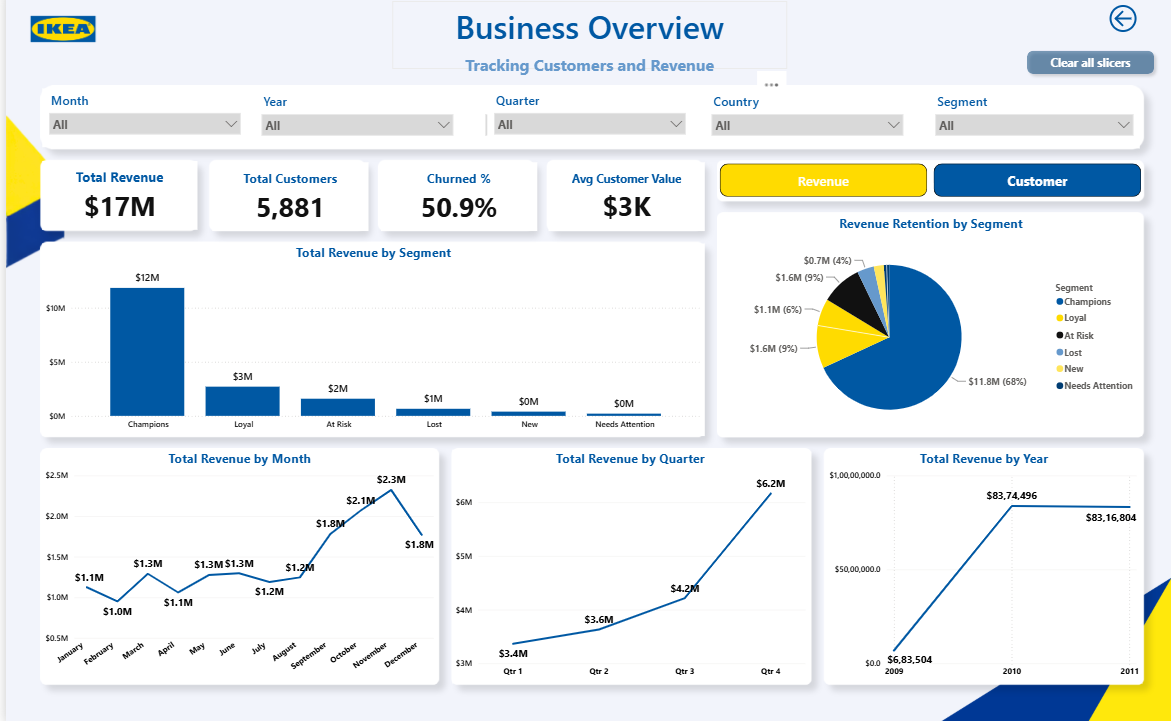

What the dashboard file says about the page in this screenshot:
{"tool":"powerbi","page":{"name":"Overview","canvas":[1750,1100],"ordinal":1},"visuals":[{"type":"cardVisual","fields":{"Data":["EcommerceData.Total Revenue"]},"box":[54.4,254.9,232.4,103.1],"z":0},{"type":"clusteredColumnChart","fields":{"Category":["EcommerceData.Segment"],"Y":["EcommerceData.Total Customers"]},"box":[54.4,378.6,993.5,288.7],"z":0,"group":"g1"},{"type":"cardVisual","fields":{"Data":["EcommerceData.Total Customers"]},"box":[309.3,256.8,234.3,103.1],"z":1000},{"type":"columnChart","title":"Customer Retention by Segment","fields":{"Category":["EcommerceData.Segment"],"Series":["EcommerceData.IsChurned"],"Y":["EcommerceData.Total Customers"]},"box":[1070.4,337.4,633.6,331.8],"z":1000,"group":"g1"},{"type":"cardVisual","fields":{"Data":["EcommerceData.Churned %"]},"box":[562.4,256.8,234.3,103.1],"z":2000},{"type":"lineChart","fields":{"Category":["EcommerceData.InvoiceDate.Variation.Date Hierarchy.Month"],"Y":["EcommerceData.Total Customers"]},"box":[52.5,687.9,592.4,350.5],"z":2000,"group":"g1"},{"type":"cardVisual","fields":{"Data":["EcommerceData.Average Customer Value"]},"box":[813.6,256.8,234.3,103.1],"z":3000},{"type":"lineChart","fields":{"Category":["EcommerceData.InvoiceDate.Variation.Date Hierarchy.Quarter"],"Y":["EcommerceData.Total Customers"]},"box":[667.4,689.8,534.3,350.5],"z":3000,"group":"g1"},{"type":"slicer","fields":{"Values":["EcommerceData.InvoiceDate.Variation.Date Hierarchy.Month"]},"box":[54.4,146.2,307.4,88.1],"z":4000},{"type":"lineChart","fields":{"Category":["EcommerceData.InvoiceDate.Variation.Date Hierarchy.Year"],"Y":["EcommerceData.Total Customers"]},"box":[1226,689.8,474.3,350.5],"z":4000,"group":"g1"},{"type":"slicer","fields":{"Values":["EcommerceData.InvoiceDate.Variation.Date Hierarchy.Year"]},"box":[373,148.1,307.4,88.1],"z":5000},{"type":"slicer","fields":{"Values":["EcommerceData.InvoiceDate.Variation.Date Hierarchy.Month"]},"box":[708.6,148.1,307.4,88.1],"z":6000},{"type":"slicer","fields":{"Values":["EcommerceData.InvoiceDate.Variation.Date Hierarchy.Quarter"]},"box":[721.7,146.2,307.4,88.1],"z":7000},{"type":"slicer","fields":{"Values":["EcommerceData.Country"]},"box":[1047.9,148.1,307.4,88.1],"z":8000},{"type":"slicer","fields":{"Values":["EcommerceData.Segment"]},"box":[1383.4,148.1,316.8,88.1],"z":9000},{"type":"group","id":"g1","title":"Customer","box":[52.5,337.4,1651.5,703],"z":10000},{"type":"image","box":[0,15,170.6,84.4],"z":12000},{"type":"textbox","box":[578.8,15,592.4,103.1],"z":13000},{"type":"textbox","box":[578.8,90,592.4,58.1],"z":14000},{"type":"actionButton","box":[1617.8,15,114.3,52.5],"z":15000},{"type":"actionButton","box":[1522.9,80,208.6,52.9],"z":16000},{"type":"bookmarkNavigator","box":[1070.4,258.7,633.6,50.6],"z":17000}]}

Visuals, with their boxes in screenshot pixels (x1, y1, x2, y2), scaled from the page's 1750x1100 canvas onto the 1171x721 screenshot:
cardVisual - EcommerceData.Total Revenue: l=36, t=167, r=192, b=235
clusteredColumnChart - EcommerceData.Segment x EcommerceData.Total Customers: l=36, t=248, r=701, b=437
cardVisual - EcommerceData.Total Customers: l=207, t=168, r=364, b=236
"Customer Retention by Segment" columnChart: l=716, t=221, r=1140, b=439
cardVisual - EcommerceData.Churned %: l=376, t=168, r=533, b=236
lineChart - EcommerceData.InvoiceDate.Variation.Date Hierarchy.Month x EcommerceData.Total Customers: l=35, t=451, r=432, b=681
cardVisual - EcommerceData.Average Customer Value: l=544, t=168, r=701, b=236
lineChart - EcommerceData.InvoiceDate.Variation.Date Hierarchy.Quarter x EcommerceData.Total Customers: l=447, t=452, r=804, b=682
slicer - EcommerceData.InvoiceDate.Variation.Date Hierarchy.Month: l=36, t=96, r=242, b=154
lineChart - EcommerceData.InvoiceDate.Variation.Date Hierarchy.Year x EcommerceData.Total Customers: l=820, t=452, r=1138, b=682
slicer - EcommerceData.InvoiceDate.Variation.Date Hierarchy.Year: l=250, t=97, r=455, b=155
slicer - EcommerceData.InvoiceDate.Variation.Date Hierarchy.Month: l=474, t=97, r=680, b=155
slicer - EcommerceData.InvoiceDate.Variation.Date Hierarchy.Quarter: l=483, t=96, r=689, b=154
slicer - EcommerceData.Country: l=701, t=97, r=907, b=155
slicer - EcommerceData.Segment: l=926, t=97, r=1138, b=155
"Customer" group: l=35, t=221, r=1140, b=682
image: l=0, t=10, r=114, b=65
textbox: l=387, t=10, r=784, b=77
textbox: l=387, t=59, r=784, b=97
actionButton: l=1083, t=10, r=1159, b=44
actionButton: l=1019, t=52, r=1159, b=87
bookmarkNavigator: l=716, t=170, r=1140, b=203
